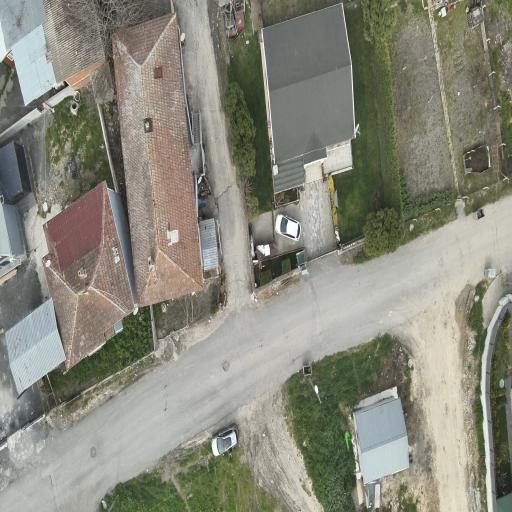car: (212, 425, 238, 456), (275, 214, 301, 241)
